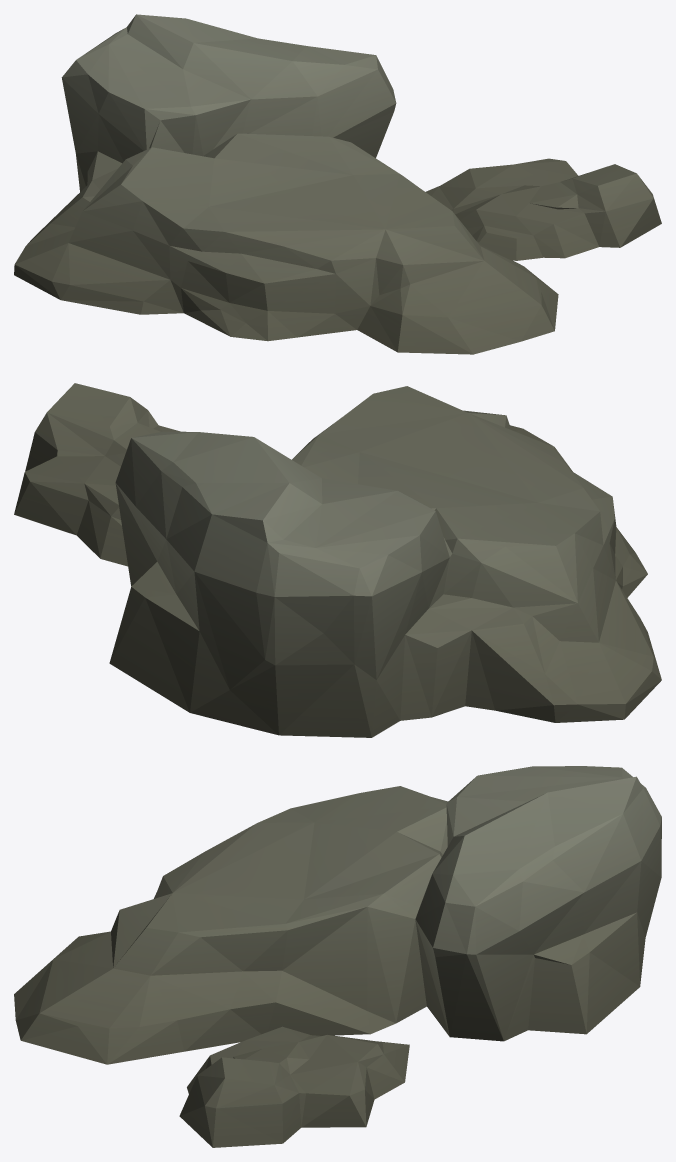
File: ZLP_Rock_E_11.FBX
3 renders of one model, top to bottom at view 1: azimuth 30°, elevation 25°; view 2: azimuth 150°, elevation 25°; view 3: azimuth 270°, elevation 25°, orthographic. The views are drawn at different scales.
Parts seen in each view (by area): view 1: ZLP_Rock_E_11; view 2: ZLP_Rock_E_11; view 3: ZLP_Rock_E_11.
Boxes of the visible parts, bbox=[...] form: ZLP_Rock_E_11: bbox=[14, 14, 661, 354]; ZLP_Rock_E_11: bbox=[14, 383, 661, 737]; ZLP_Rock_E_11: bbox=[14, 766, 661, 1147].
Size of the model in its own units: 258 by 72.14 by 234.
